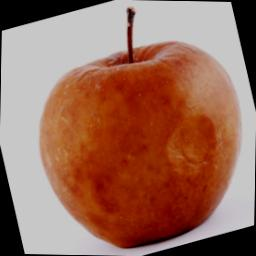Apple Rotten: (28, 5, 256, 256)
